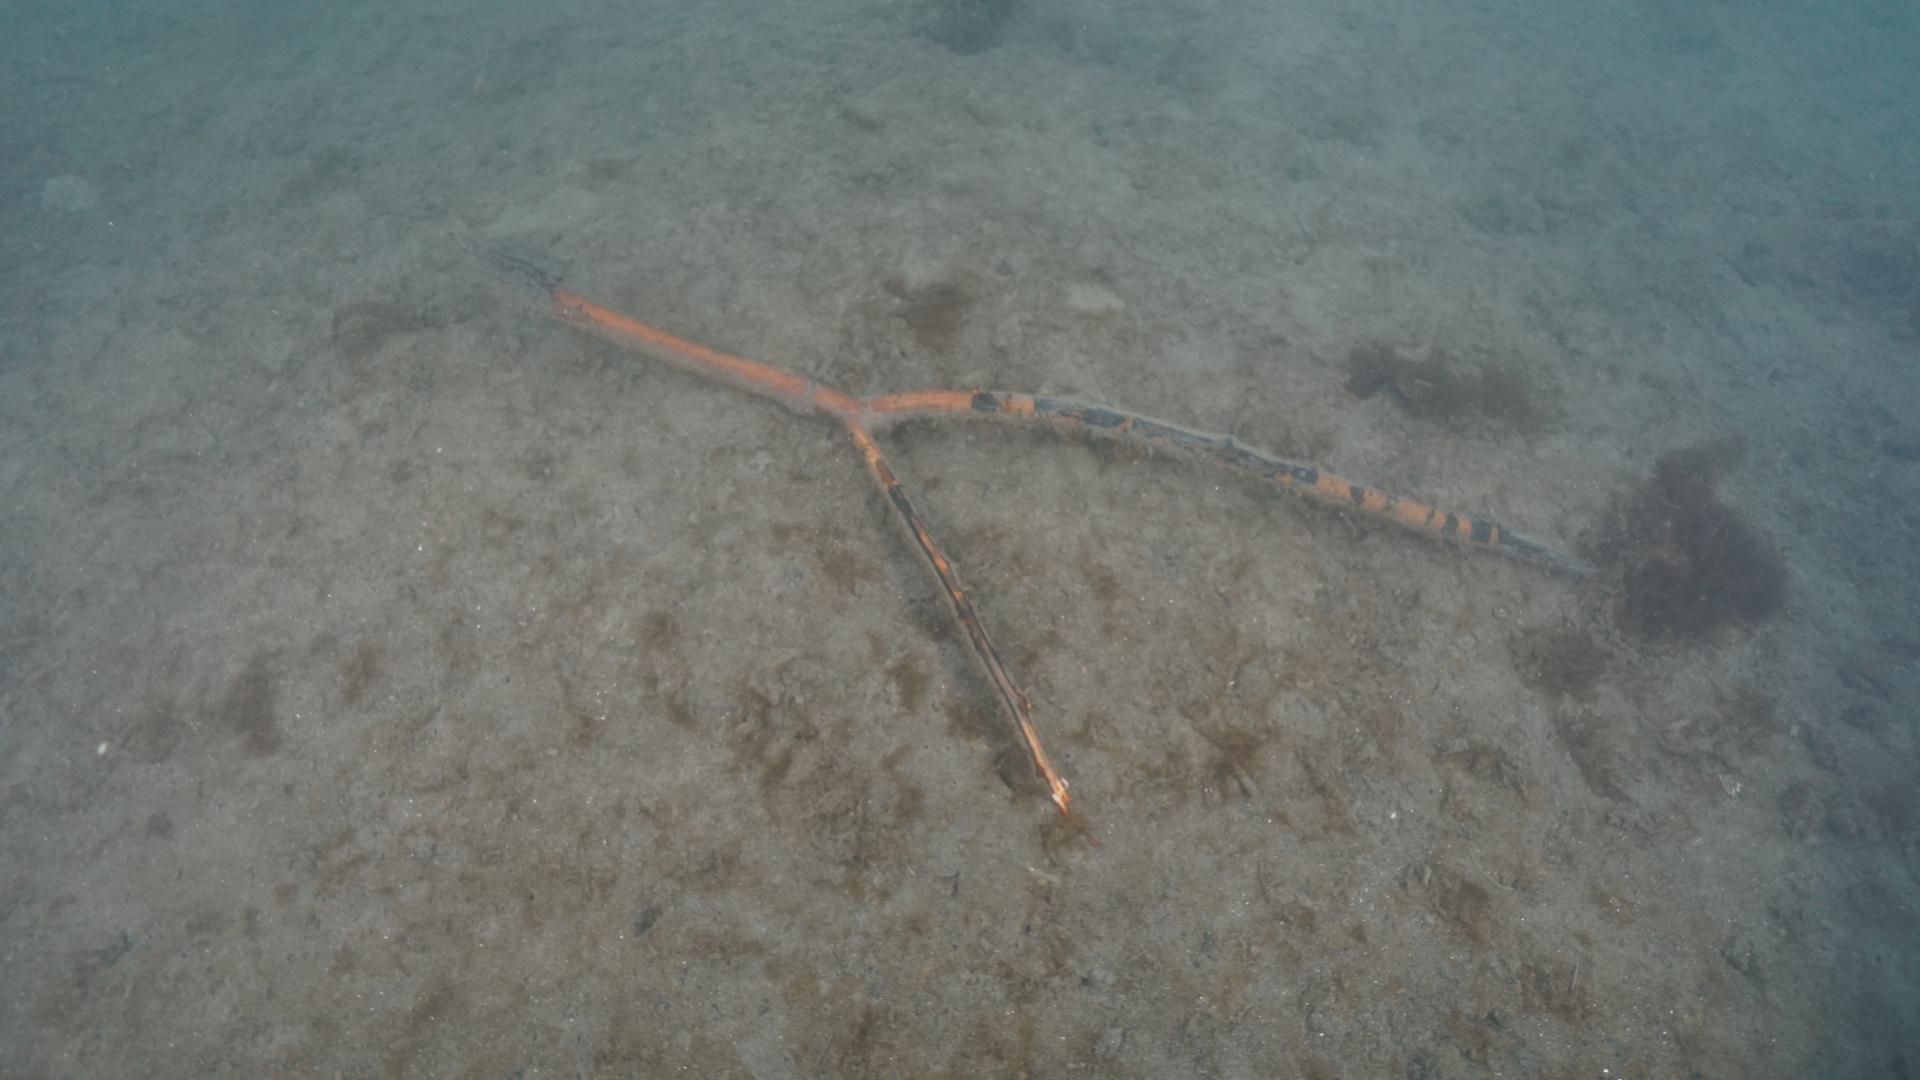wood: (549, 298, 1593, 832)
